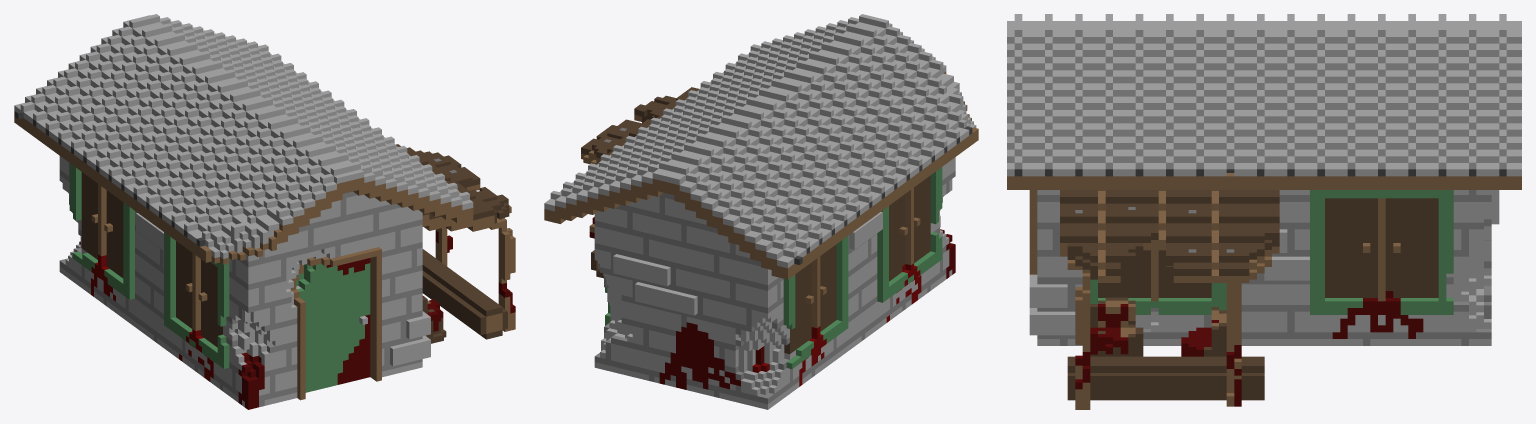
The model's file is Bahay_7.obj.
The picture shows the model from 3 angles, left to right: view 1: azimuth 30°, elevation 25°; view 2: azimuth 150°, elevation 25°; view 3: azimuth 270°, elevation 25°; orthographic projection. The views are drawn at different scales.
Bounding box in the file's own units: 6 × 4 × 6.8.
Materials: 1 (1 with a texture image).
